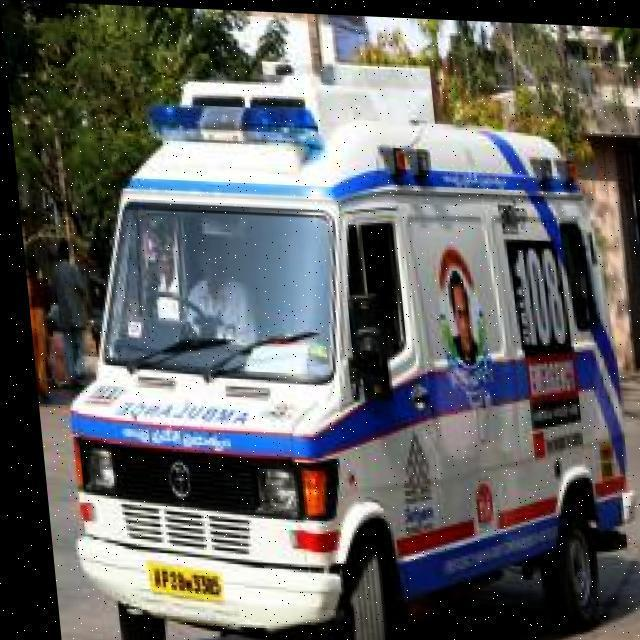Ambulance: (1, 10, 640, 640), (26, 340, 640, 640)
